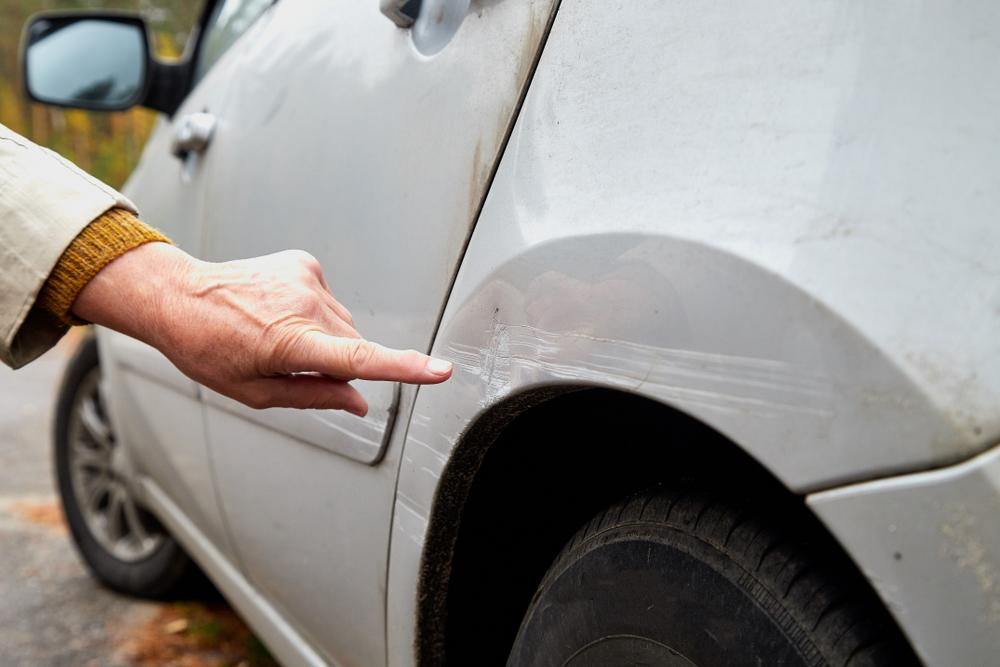dent: (443, 279, 535, 401)
scratch: (532, 324, 837, 431), (392, 414, 475, 551)
